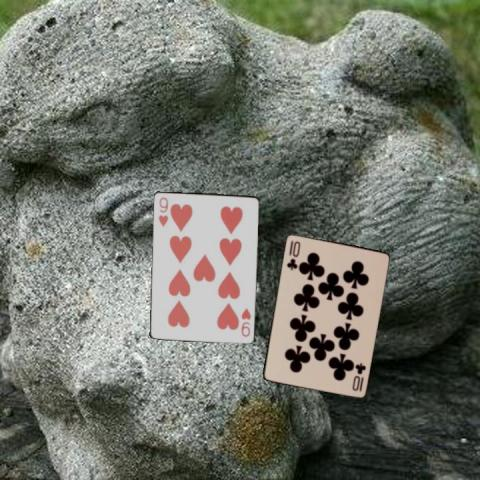10c: (349, 359, 368, 392), (284, 237, 302, 271)
9h: (156, 194, 170, 227), (238, 305, 252, 338)
